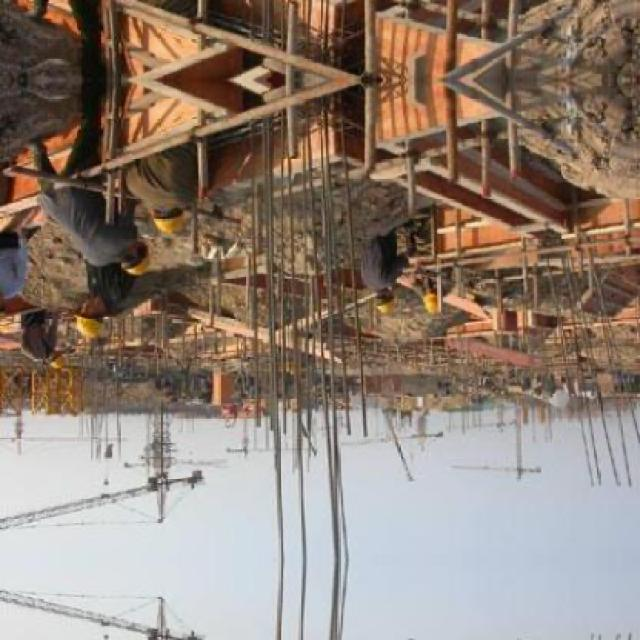con casco: (78, 240, 168, 280), (74, 303, 114, 336), (135, 210, 176, 238), (374, 280, 399, 312)
